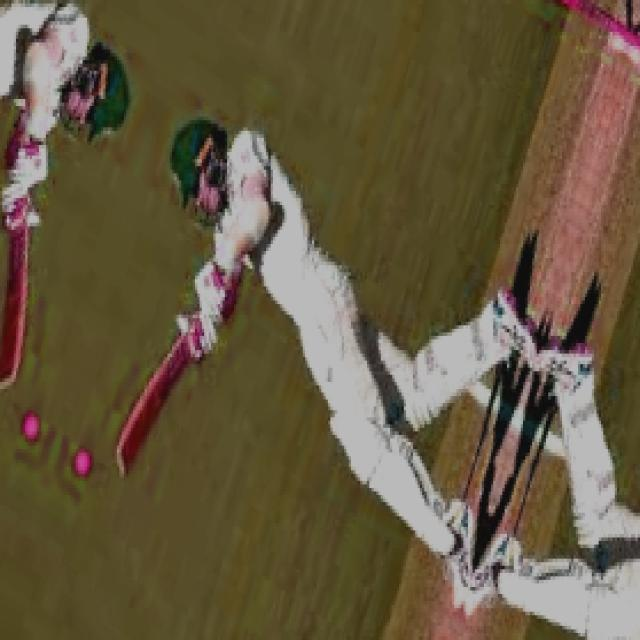toe: (114, 440, 130, 482)
